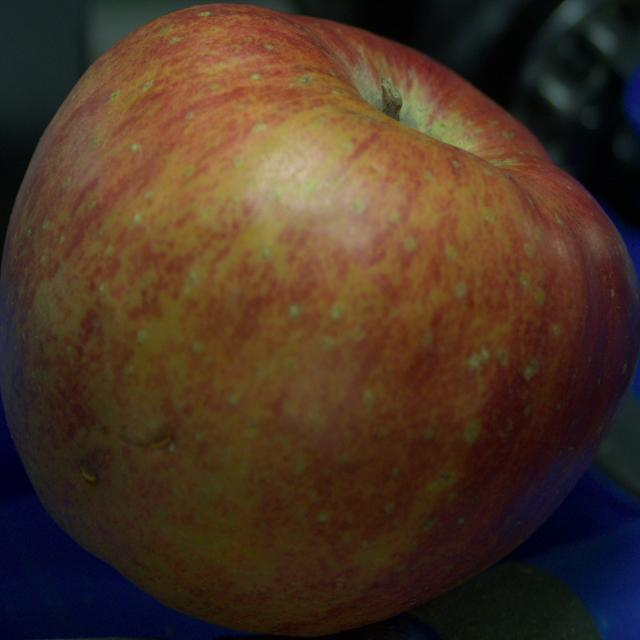apple: (0, 4, 639, 635)
pest: (81, 466, 96, 483)
scratch: (121, 431, 172, 449)
